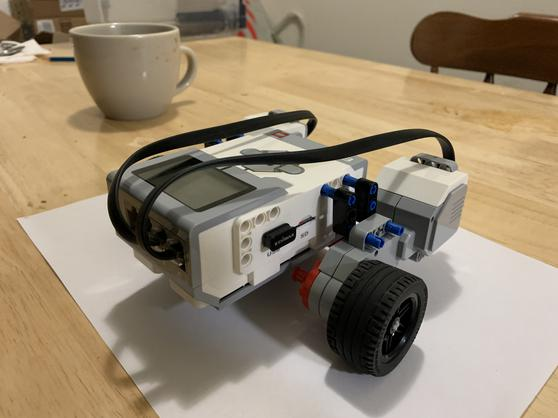robot: (103, 118, 491, 386)
